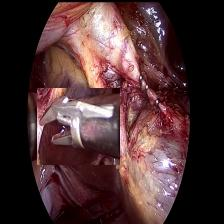Clipper: (36, 87, 119, 164)
